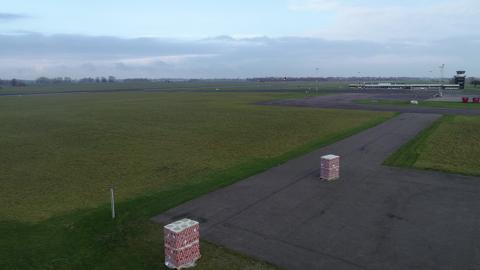RockwoolPallet: (164, 219, 201, 270)
